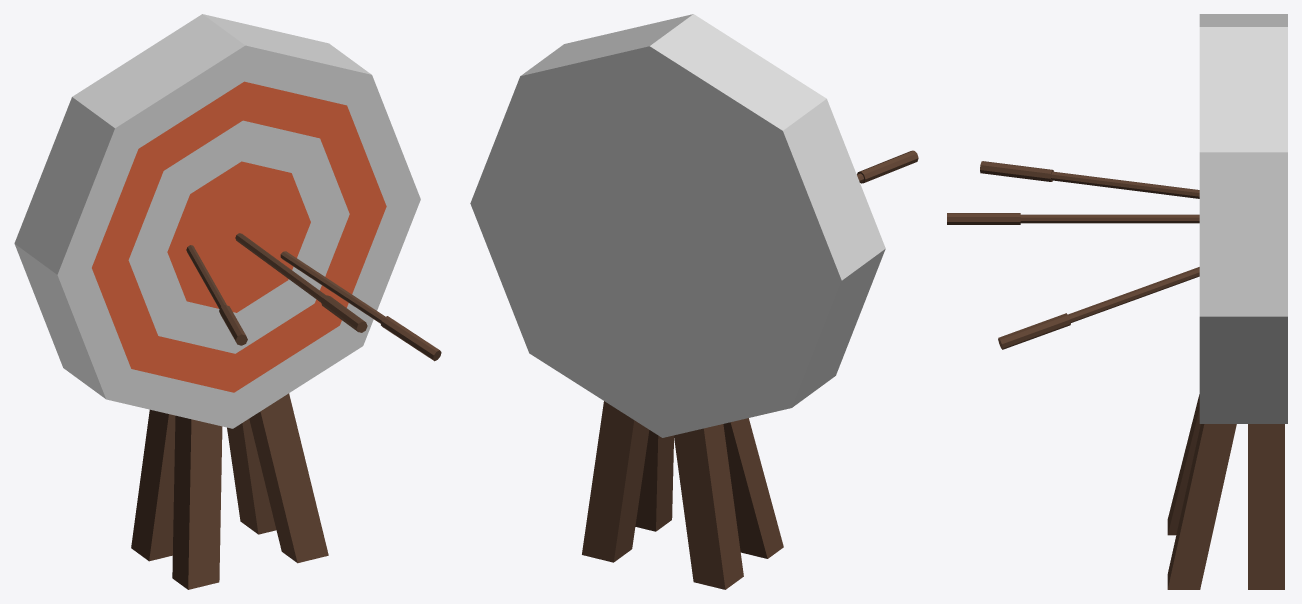
The model's file is TargetWithArrows.glb.
3 renders of one model, left to right at view 1: azimuth 30°, elevation 25°; view 2: azimuth 150°, elevation 25°; view 3: azimuth 270°, elevation 25°, orthographic. The views are drawn at different scales.
Parts seen in each view (by area): view 1: Target; view 2: Target; view 3: Target.
Boxes of the visible parts, <box> form: Target: <box>14,14,441,589</box>; Target: <box>470,14,918,589</box>; Target: <box>947,14,1287,589</box>.
Bounding box in the file's own units: 0.5264 × 0.7132 × 0.4164.
